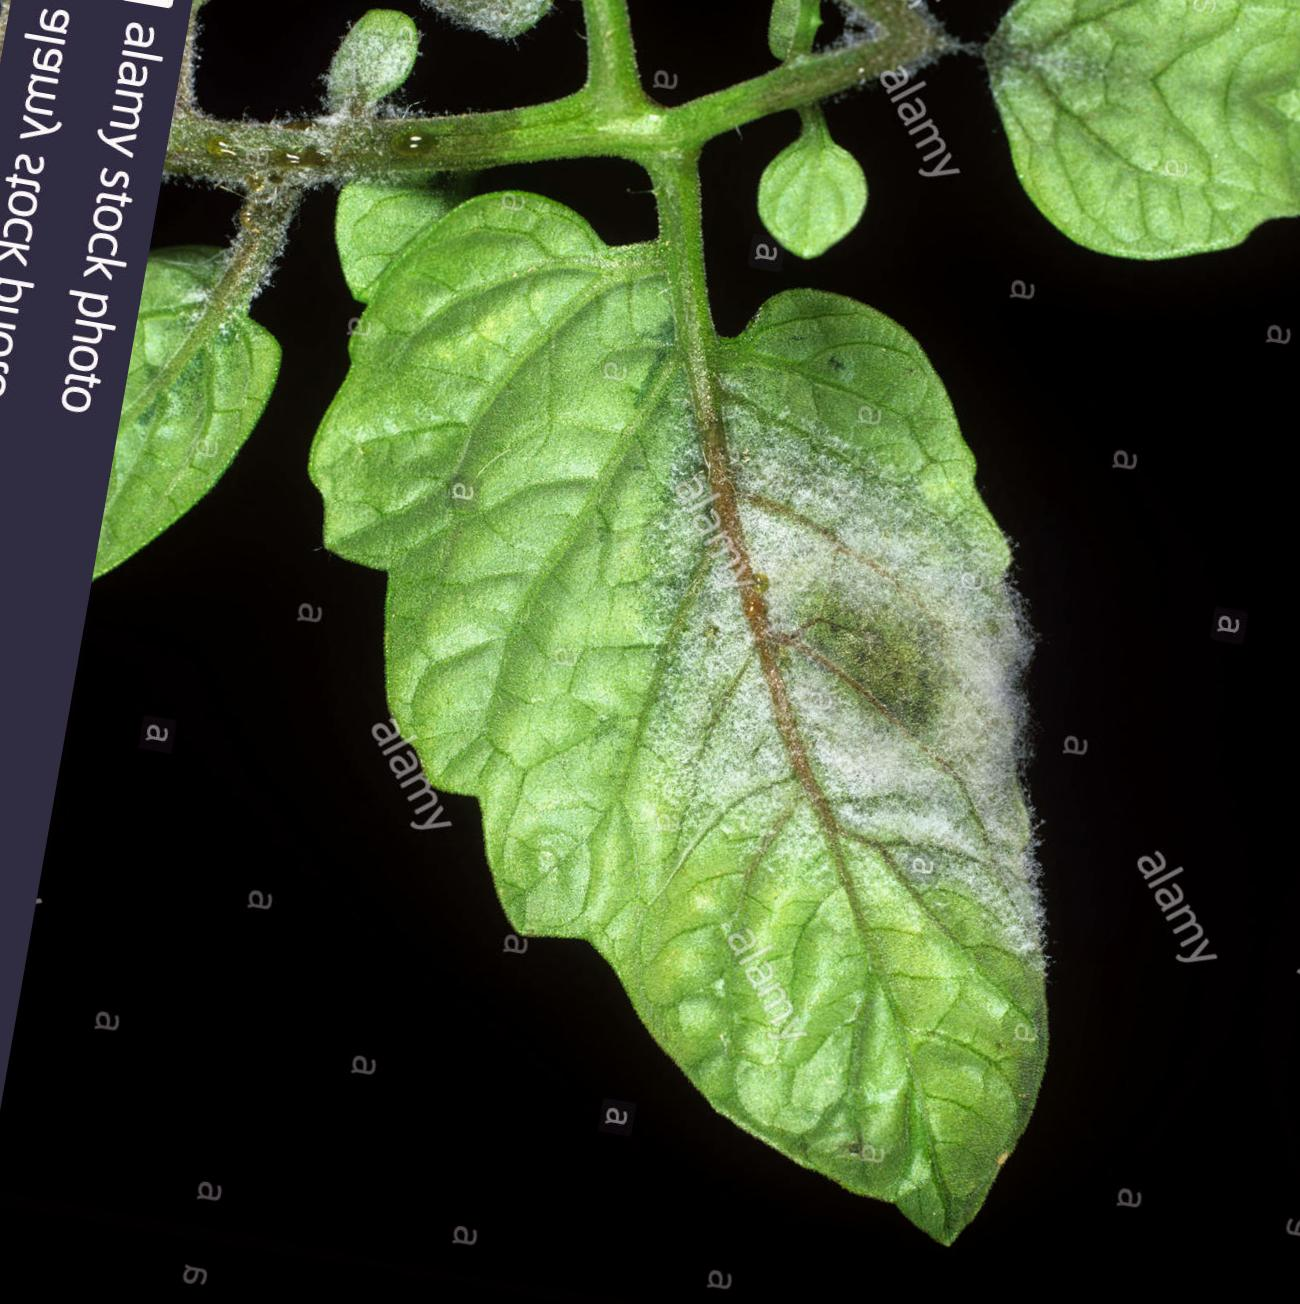Tomato leaf late blight: (182, 118, 1205, 1283)
